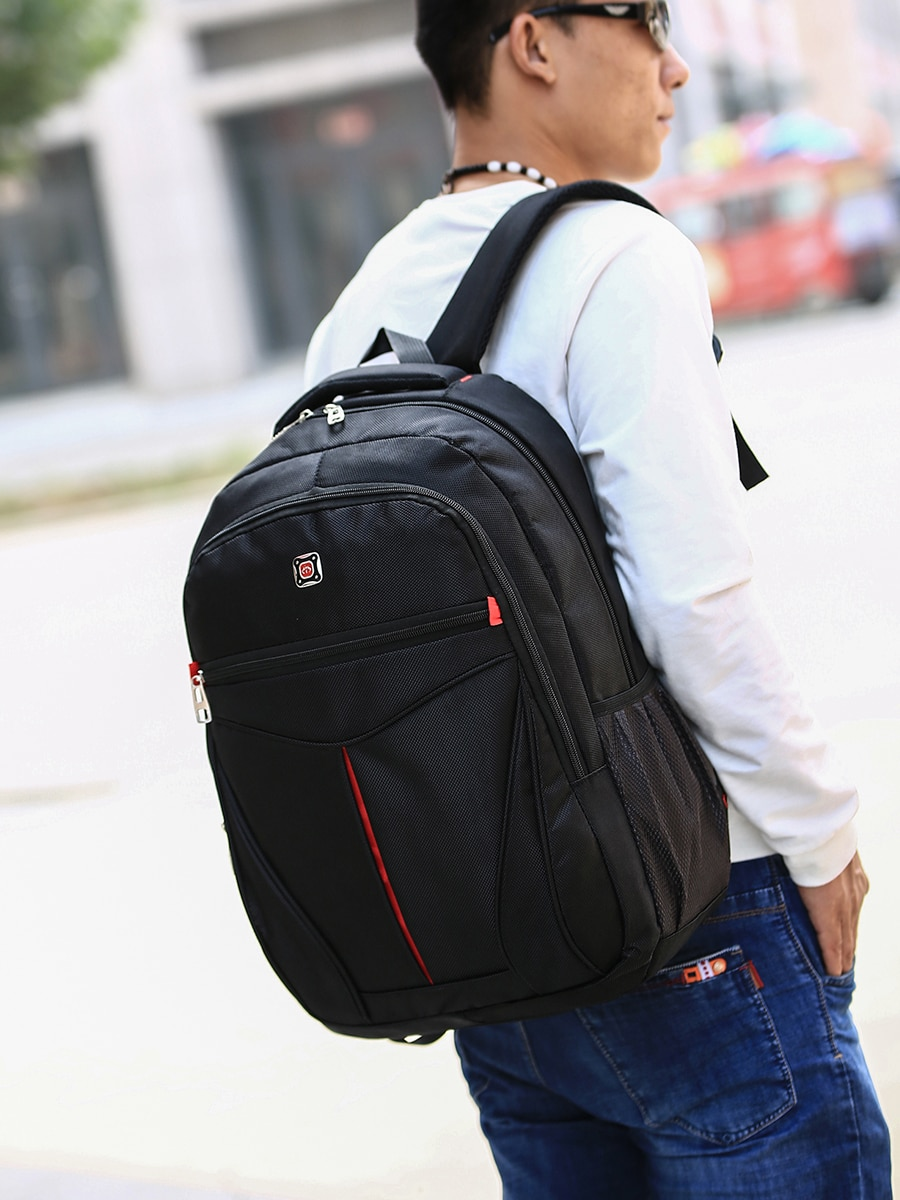Accessories|Necklaces: (441, 163, 555, 185)
Accessories|Sunglasses & Eyewears: (565, 1, 674, 54)
Bottoms|Pants: (452, 850, 900, 1196)
Men's Backpacks: (179, 297, 732, 1048)
Tops|Shirts: (294, 179, 863, 890)
